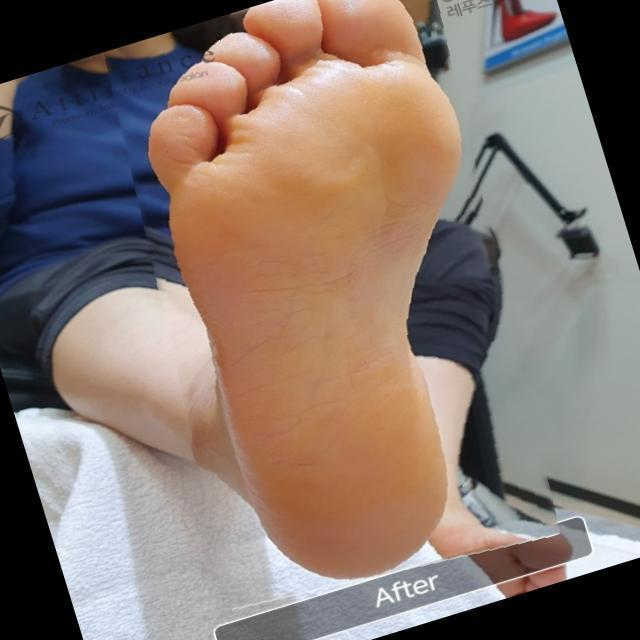No_Shoes: (117, 1, 490, 584)
